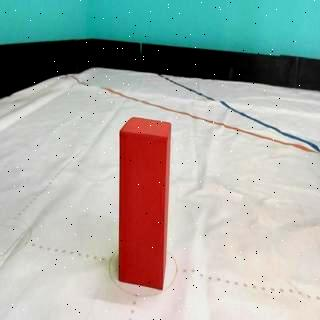redbox: (119, 116, 171, 292)
